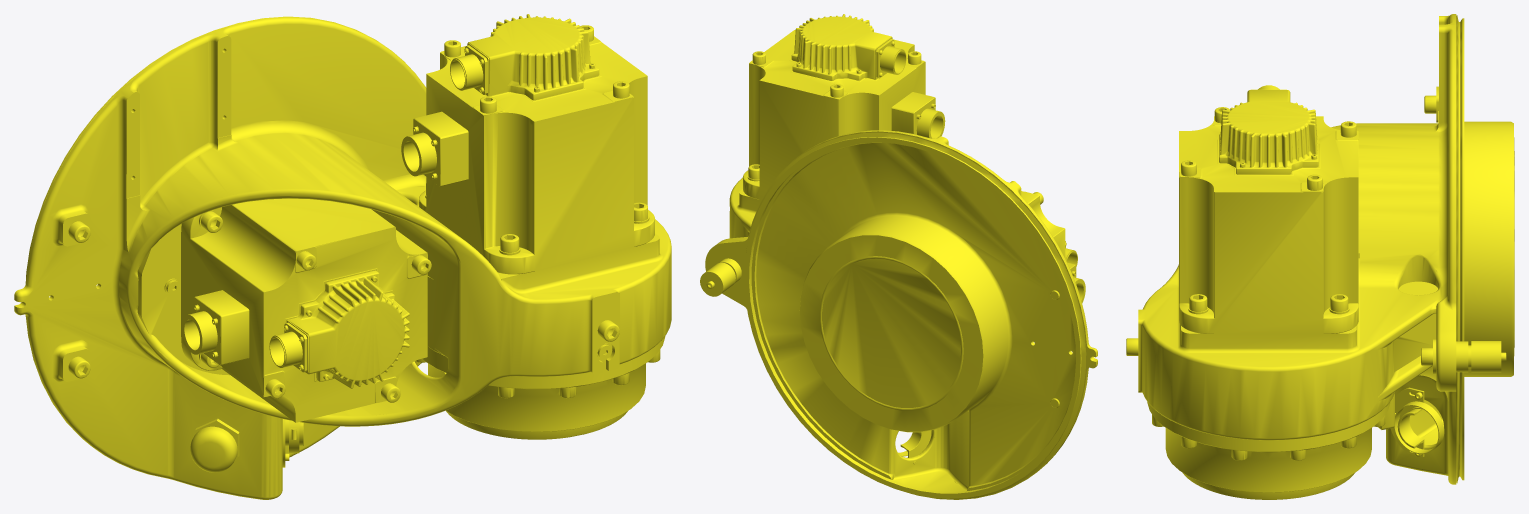
The picture shows the model from 3 angles, left to right: view 1: azimuth 30°, elevation 25°; view 2: azimuth 150°, elevation 25°; view 3: azimuth 270°, elevation 25°; orthographic projection. The views are drawn at different scales.
Visible parts, largest first — view 1: /Link1_001/Link1_001-mesh/0; view 2: /Link1_001/Link1_001-mesh/0; view 3: /Link1_001/Link1_001-mesh/0.
Boxes of the visible parts, box(x1,y1,x2,y2) form: /Link1_001/Link1_001-mesh/0: box(14, 14, 671, 499); /Link1_001/Link1_001-mesh/0: box(700, 14, 1097, 499); /Link1_001/Link1_001-mesh/0: box(1126, 14, 1514, 499).
Bounding box in the file's own units: 0.593 × 0.4839 × 0.3895.
